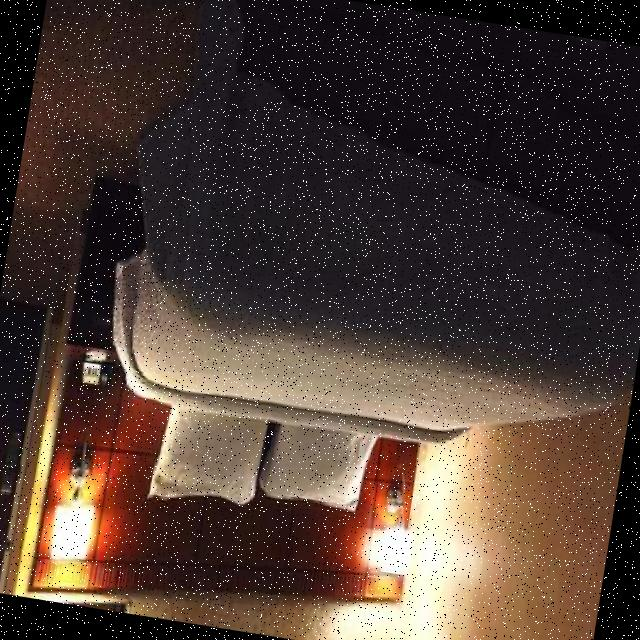Bed: (72, 0, 640, 576)
